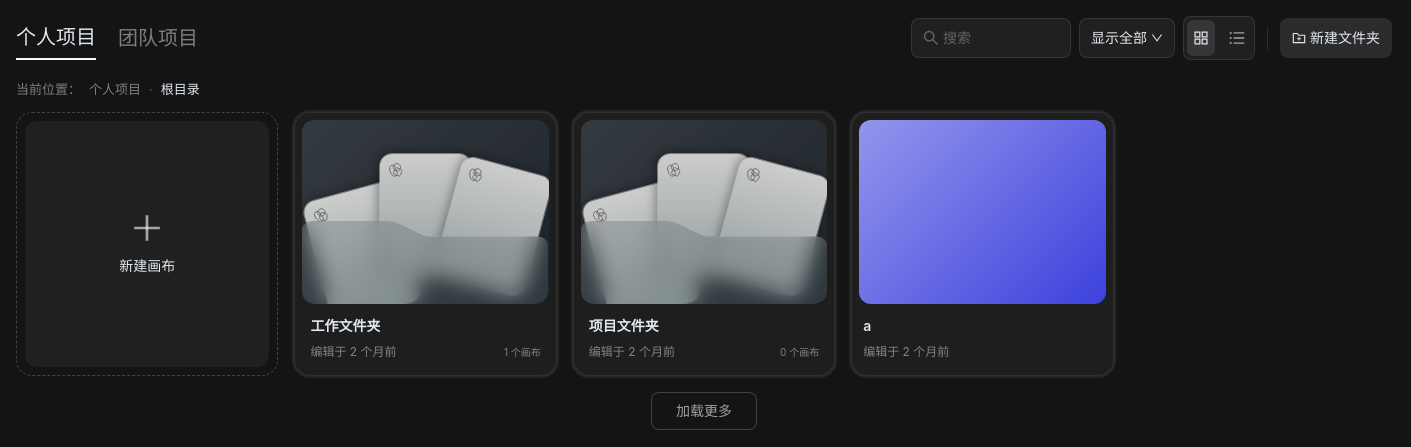
Test: WorkspacePage › hasMore 时显示加载更多，点击追加下一页
Click the button with test id "load-more".
click(704, 411)  # box x1=651 y1=392 x2=757 y2=430
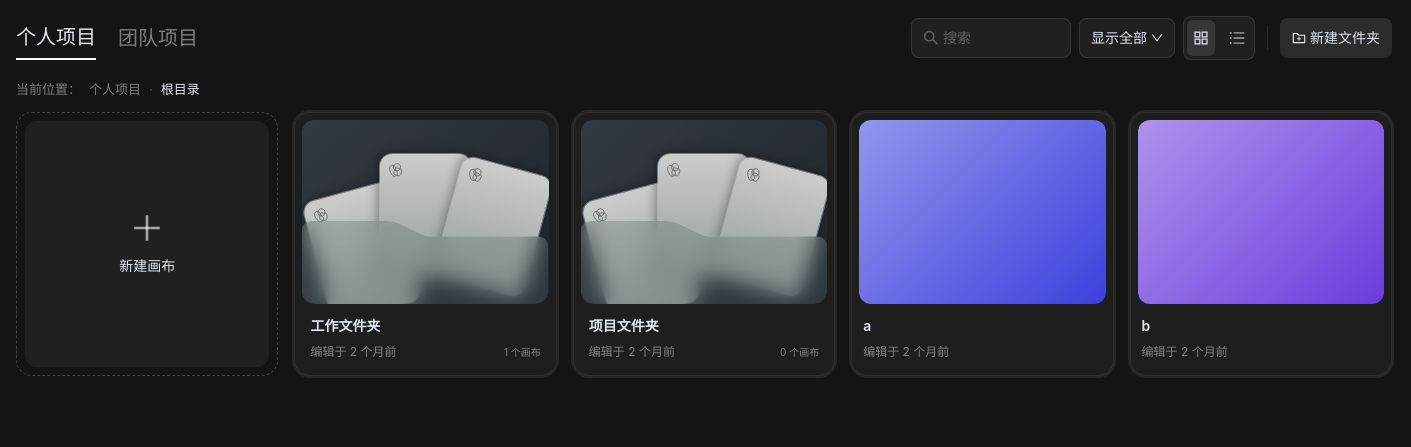
Check: the button with test id "canvas-card-c21" is shown, box x1=1130 y1=112 x2=1392 y2=376
Check: the button with test id "load-more" is gone
